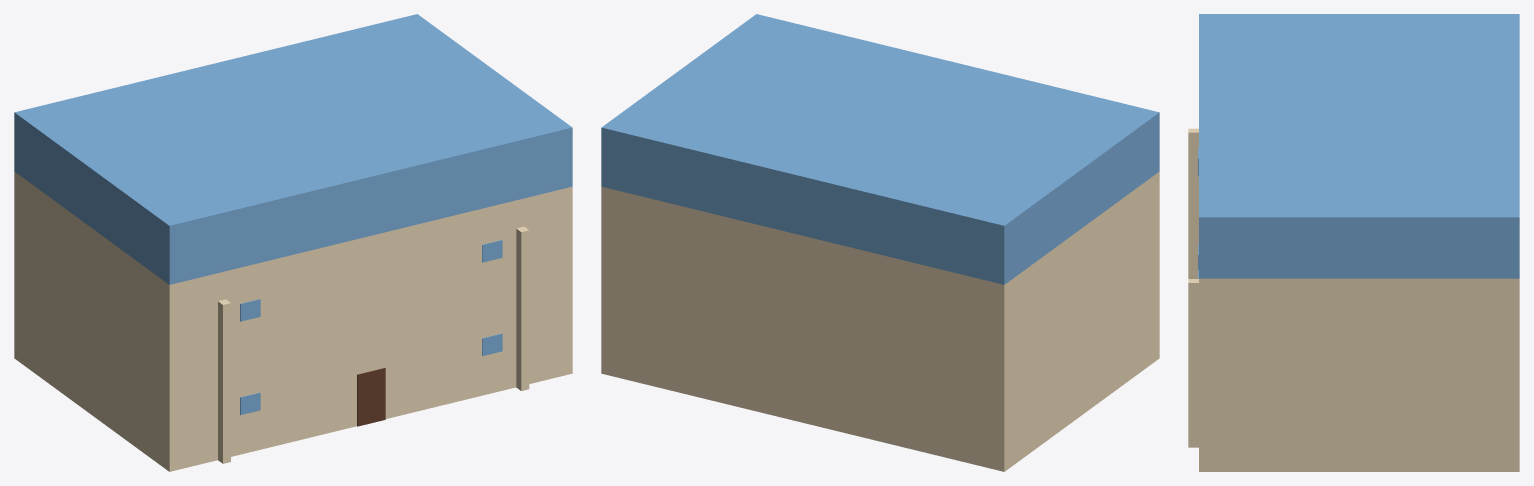
File: gedung_kampus.fbx
3 views of the same model, side by side, from view 1: azimuth 30°, elevation 25°; view 2: azimuth 150°, elevation 25°; view 3: azimuth 270°, elevation 25° (orthographic). The views are drawn at different scales.
Visible parts, largest first — view 1: gedung_kampus; view 2: gedung_kampus; view 3: gedung_kampus.
Boxes of the visible parts, box(x1,y1,x2,y2) form: gedung_kampus: box(14, 14, 572, 471); gedung_kampus: box(601, 14, 1159, 471); gedung_kampus: box(1188, 14, 1519, 471).
Size of the model in its own units: 1800 by 1050 by 1240.
Materials: 1 (1 with a texture image).
